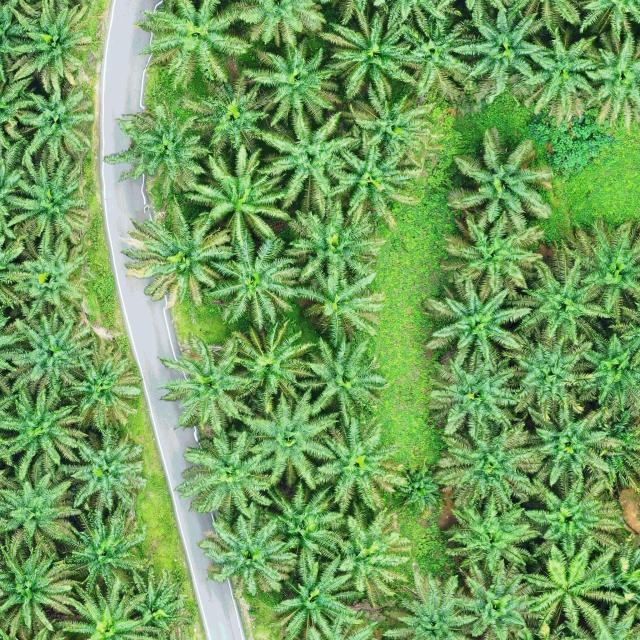Tree: (503, 238, 613, 346), (184, 147, 292, 255), (443, 125, 555, 228), (427, 417, 548, 511), (305, 411, 411, 516), (128, 0, 253, 89), (276, 193, 391, 289), (120, 206, 232, 304), (517, 402, 631, 496), (195, 503, 301, 603), (255, 110, 361, 210), (202, 228, 306, 329), (173, 426, 278, 525), (238, 31, 343, 130), (452, 1, 550, 106), (238, 392, 340, 492), (422, 280, 530, 374), (435, 206, 547, 293), (0, 0, 99, 98), (518, 539, 626, 628), (215, 321, 316, 416), (518, 472, 628, 558), (156, 338, 251, 437), (320, 141, 428, 227), (2, 157, 91, 260), (327, 506, 414, 611), (268, 549, 366, 640), (2, 307, 97, 399), (508, 334, 601, 426), (422, 354, 520, 441), (0, 384, 87, 481), (344, 85, 444, 169), (516, 26, 603, 122), (558, 220, 640, 320), (259, 477, 348, 569), (318, 5, 407, 97), (299, 334, 387, 426), (446, 496, 542, 580), (61, 503, 156, 587), (65, 331, 144, 431), (389, 5, 475, 96), (378, 562, 478, 640), (4, 238, 98, 320), (64, 424, 148, 514), (295, 266, 386, 348), (181, 73, 271, 153), (0, 540, 75, 636), (0, 469, 84, 554), (456, 558, 542, 640), (57, 576, 163, 640), (18, 76, 92, 162), (575, 326, 640, 416), (584, 29, 640, 132), (104, 111, 168, 182)
